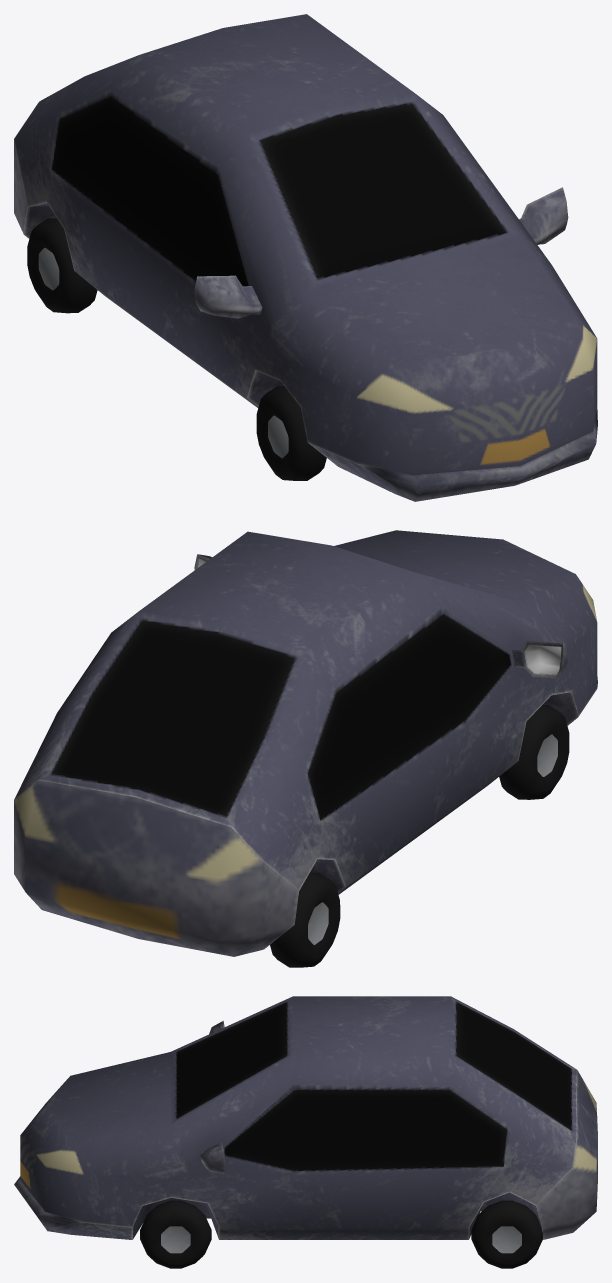
File: Car.fbx
3 views of the same model, one above another, from view 1: azimuth 30°, elevation 25°; view 2: azimuth 150°, elevation 25°; view 3: azimuth 270°, elevation 25° (orthographic). The views are drawn at different scales.
Parts seen in each view (by area): view 1: Car; view 2: Car; view 3: Car.
Boxes of the visible parts, <box> form: Car: <box>14,14,597,501</box>; Car: <box>14,530,597,967</box>; Car: <box>14,996,597,1268</box>.
Size of the model in its own units: 245 by 179 by 465.
